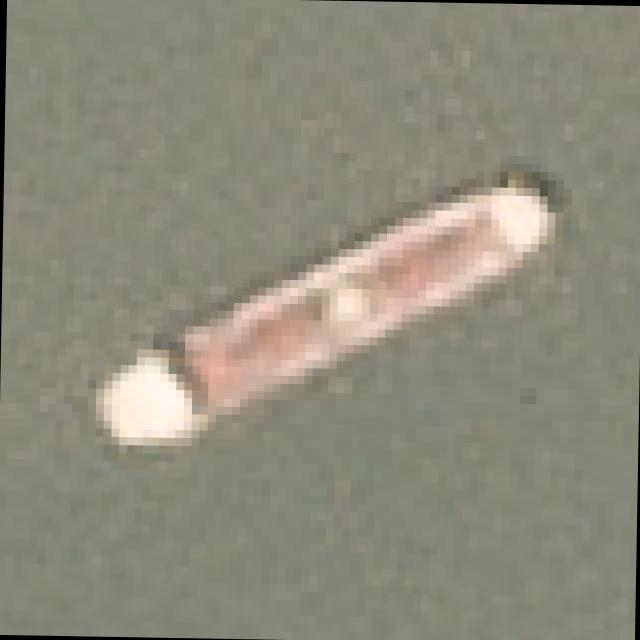ship: (74, 142, 581, 507)
